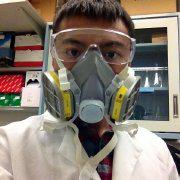OK: (56, 28, 134, 113)
